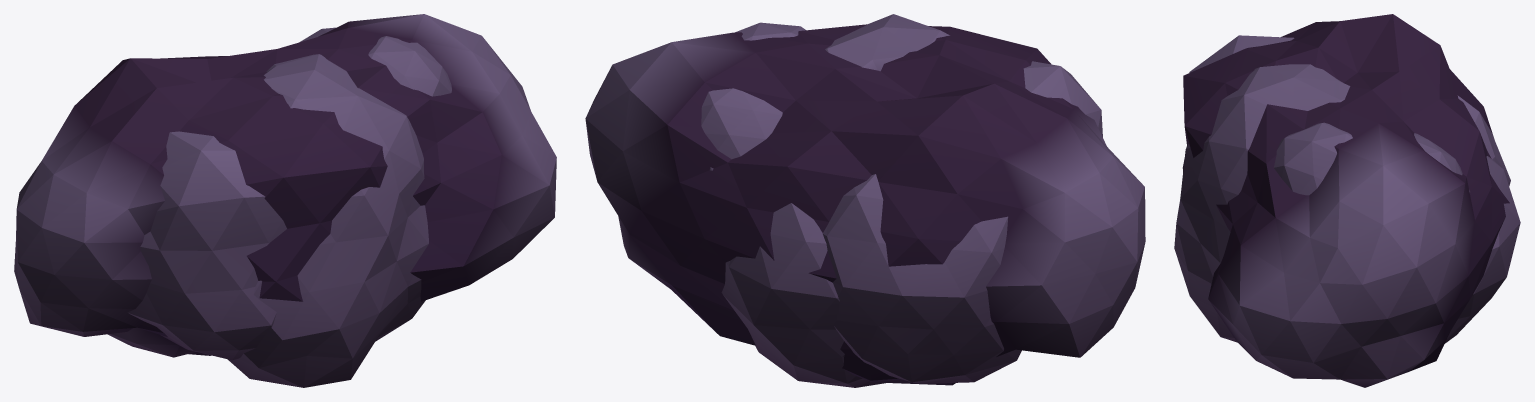
File: asteroides.glb
3 views of the same model, side by side, from view 1: azimuth 30°, elevation 25°; view 2: azimuth 150°, elevation 25°; view 3: azimuth 270°, elevation 25° (orthographic). The views are drawn at different scales.
Parts seen in each view (by area): view 1: Asteroide B, Asteroide A, Asteroide C; view 2: Asteroide B, Asteroide C, Asteroide A; view 3: Asteroide B, Asteroide A, Asteroide C.
Part boxes in pixels (x1,y1,x2,y2): Asteroide B: [14, 14, 556, 355]; Asteroide A: [228, 54, 428, 387]; Asteroide C: [108, 27, 451, 360]; Asteroide B: [585, 24, 1145, 385]; Asteroide C: [701, 22, 1102, 383]; Asteroide A: [721, 14, 949, 387]; Asteroide B: [1182, 14, 1509, 387]; Asteroide A: [1174, 64, 1520, 343]; Asteroide C: [1189, 35, 1510, 195].
Size of the model in its own units: 1.6 by 0.8886 by 0.9918.
